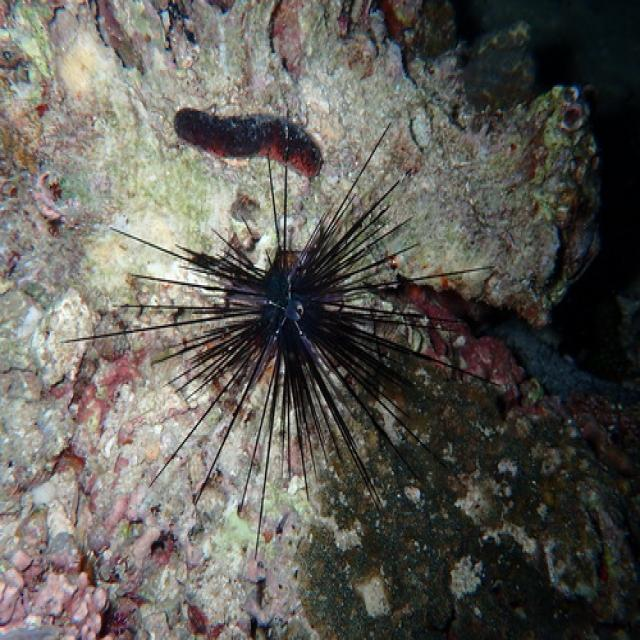Urchin: (63, 123, 503, 561)
